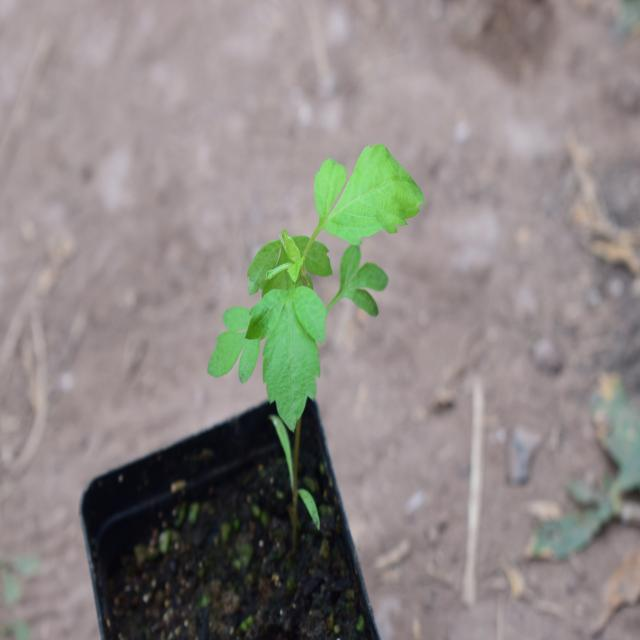Bidens pilosa: (217, 142, 428, 454)
